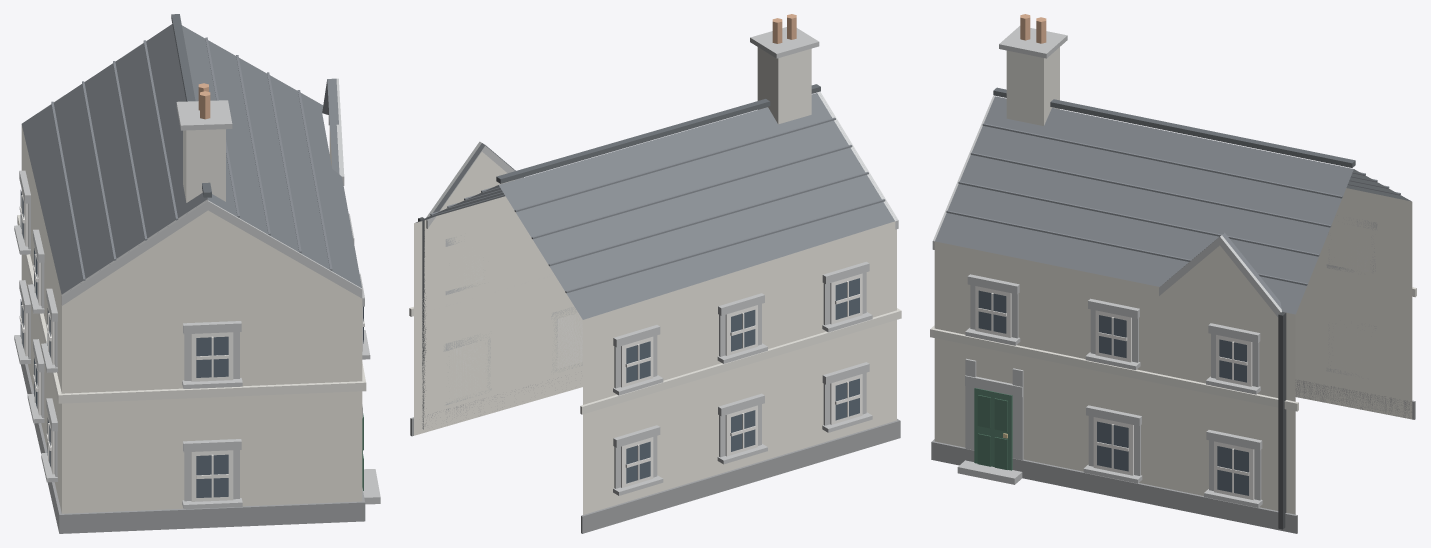
3 renders of one model, left to right at view 1: azimuth 30°, elevation 25°; view 2: azimuth 150°, elevation 25°; view 3: azimuth 270°, elevation 25°, orthographic. The views are drawn at different scales.
Visible parts, largest first — view 1: harl_cream, slate, stone_band, plinth, slate_lt, frame, string, chim_render, window_glass_006, window_glass_007, slate_dk; view 2: harl_cream, slate, stone_band, plinth, frame, slate_lt, chim_render, string, slate_dk, window_glass_008, window_glass_009, window_glass_010 (+4 smaller); view 3: harl_cream, slate, stone_band, plinth, frame, slate_lt, string, chim_render, slate_dk, pipe, door_green_p, door_green (+6 smaller).
Boxes of the visible parts, x1,y1,x2,y2 form: harl_cream: [21, 125, 362, 513]; slate: [21, 24, 361, 294]; stone_band: [14, 78, 380, 509]; plinth: [21, 364, 365, 533]; slate_lt: [51, 37, 332, 280]; frame: [19, 190, 364, 501]; string: [17, 215, 366, 403]; chim_render: [183, 129, 225, 202]; window_glass_006: [196, 454, 228, 497]; window_glass_007: [196, 336, 228, 377]; slate_dk: [171, 14, 211, 197]; harl_cream: [414, 152, 896, 514]; slate: [415, 93, 894, 319]; stone_band: [426, 27, 898, 495]; plinth: [410, 371, 900, 533]; frame: [450, 259, 862, 487]; slate_lt: [430, 117, 885, 293]; chim_render: [757, 47, 811, 124]; string: [409, 274, 901, 414]; slate_dk: [496, 84, 820, 183]; window_glass_008: [626, 441, 650, 483]; window_glass_009: [626, 341, 650, 382]; window_glass_010: [731, 410, 755, 451]; harl_cream: [934, 188, 1412, 514]; slate: [935, 96, 1411, 314]; stone_band: [932, 26, 1377, 507]; plinth: [931, 380, 1415, 533]; frame: [975, 246, 1368, 500]; slate_lt: [946, 123, 1400, 285]; string: [930, 287, 1416, 411]; chim_render: [1006, 47, 1059, 125]; slate_dk: [993, 87, 1355, 167]; pipe: [1278, 312, 1286, 529]; door_green_p: [977, 395, 1007, 469]; door_green: [974, 388, 1012, 470].
Size of the model in its own units: 10.08 by 9.92 by 11.13.
